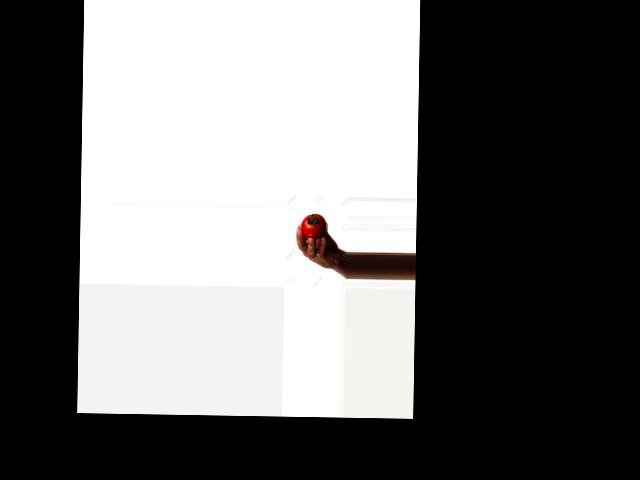tomato: (301, 213, 327, 239)
